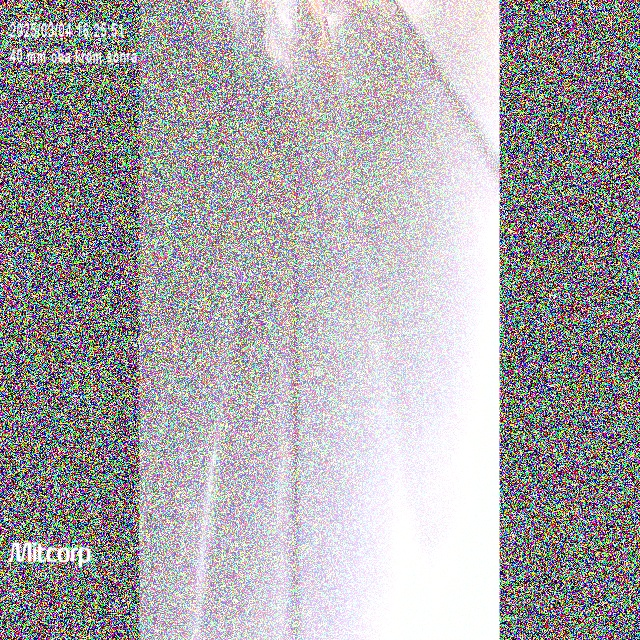hata_2.3: (184, 437, 232, 639)
